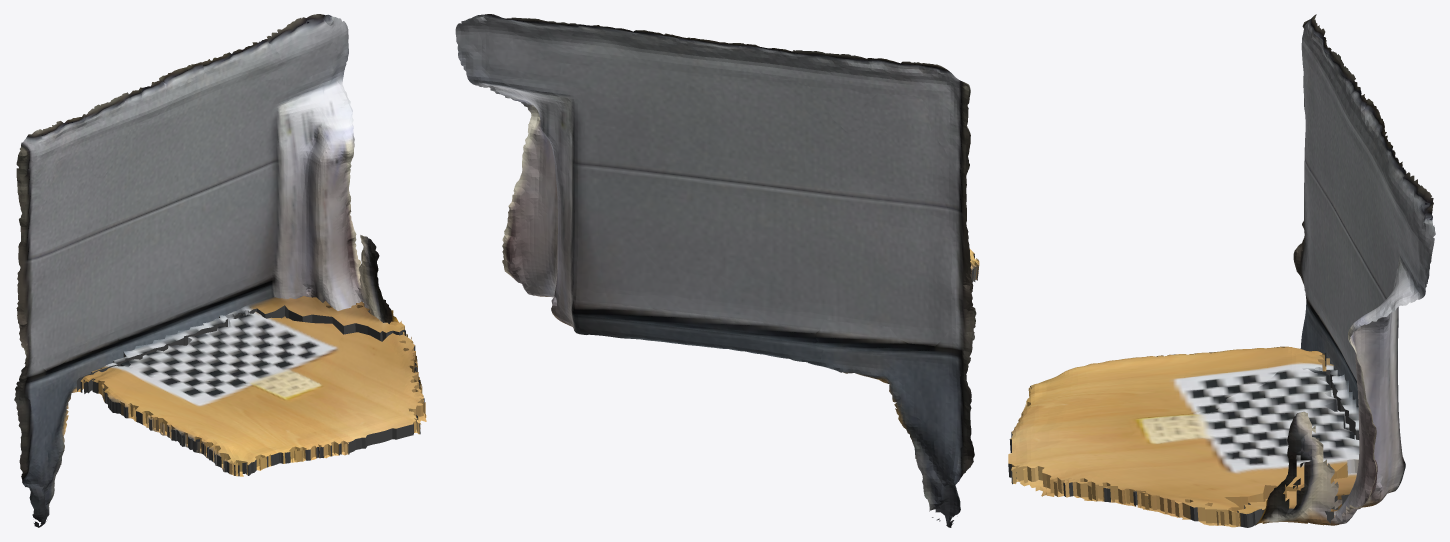
File: hyunsoo.glb
3 views of the same model, side by side, from view 1: azimuth 30°, elevation 25°; view 2: azimuth 150°, elevation 25°; view 3: azimuth 270°, elevation 25° (orthographic). The views are drawn at different scales.
Parts seen in each view (by area): view 1: vert, hori; view 2: vert; view 3: hori, vert.
Part boxes in pixels (x1,y1,x2,y2): vert: [14, 14, 398, 527]; hori: [77, 296, 426, 476]; vert: [455, 14, 976, 527]; hori: [1008, 346, 1359, 527]; vert: [1255, 14, 1435, 525].
Bounding box in the file's own units: 0.6923 × 0.6792 × 0.5646.
Materials: 1 (1 with a texture image).
